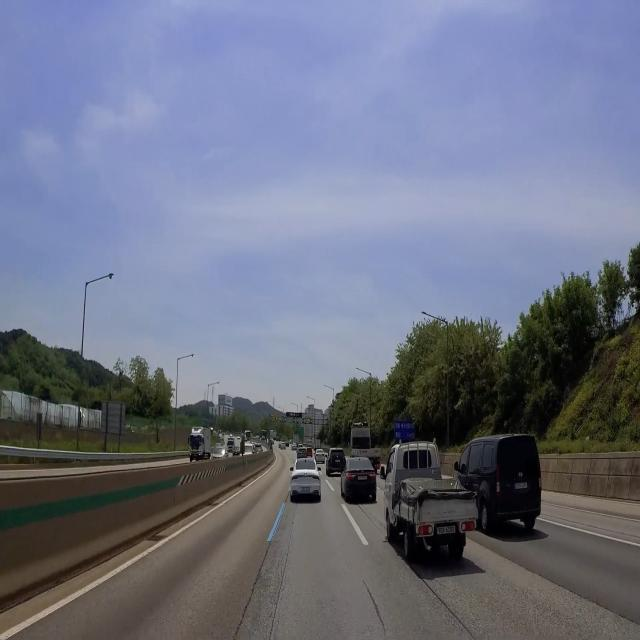car: (436, 523, 457, 535), (514, 482, 529, 490), (300, 485, 311, 493), (357, 474, 368, 481), (335, 458, 341, 465)
